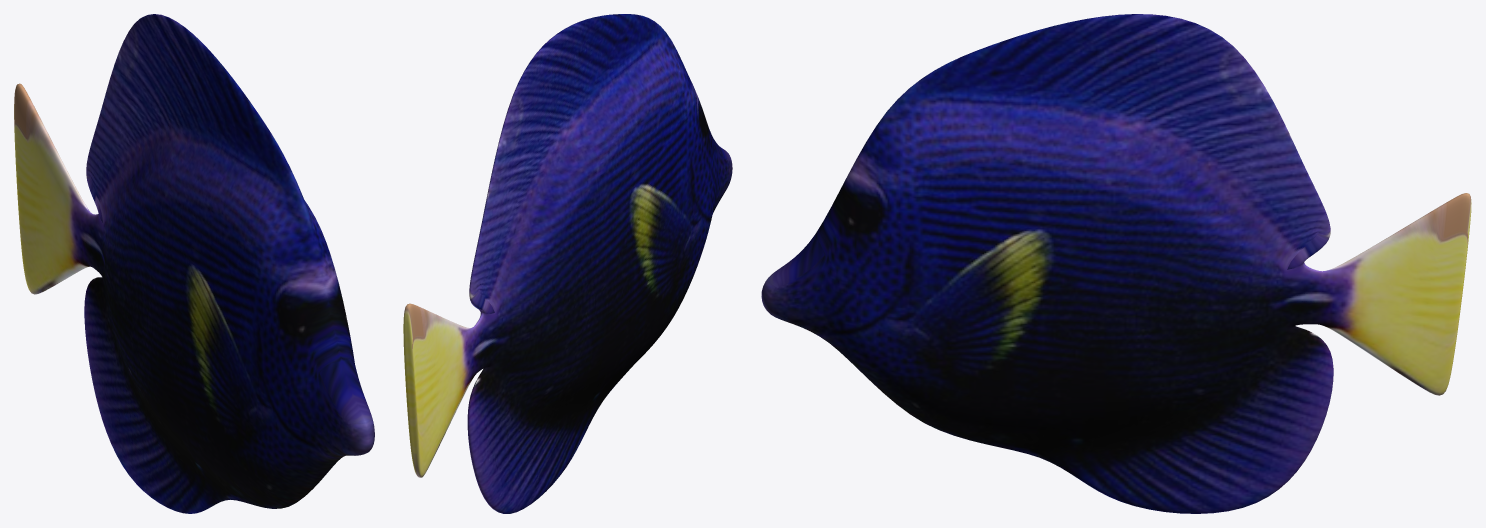
File: Zebrasoma Xanthurum-fish.glb
The picture shows the model from 3 angles, left to right: view 1: azimuth 30°, elevation 25°; view 2: azimuth 150°, elevation 25°; view 3: azimuth 270°, elevation 25°; orthographic projection. The views are drawn at different scales.
Visible parts, largest first — view 1: Cube; view 2: Cube; view 3: Cube.
Part boxes in pixels (left/top/right/bottom): Cube: left=14, top=14, right=374, bottom=513; Cube: left=403, top=14, right=732, bottom=513; Cube: left=761, top=14, right=1471, bottom=513.
Size of the model in its own units: 0.0241 by 0.1457 by 0.1877.
Materials: 1 (1 with a texture image).
